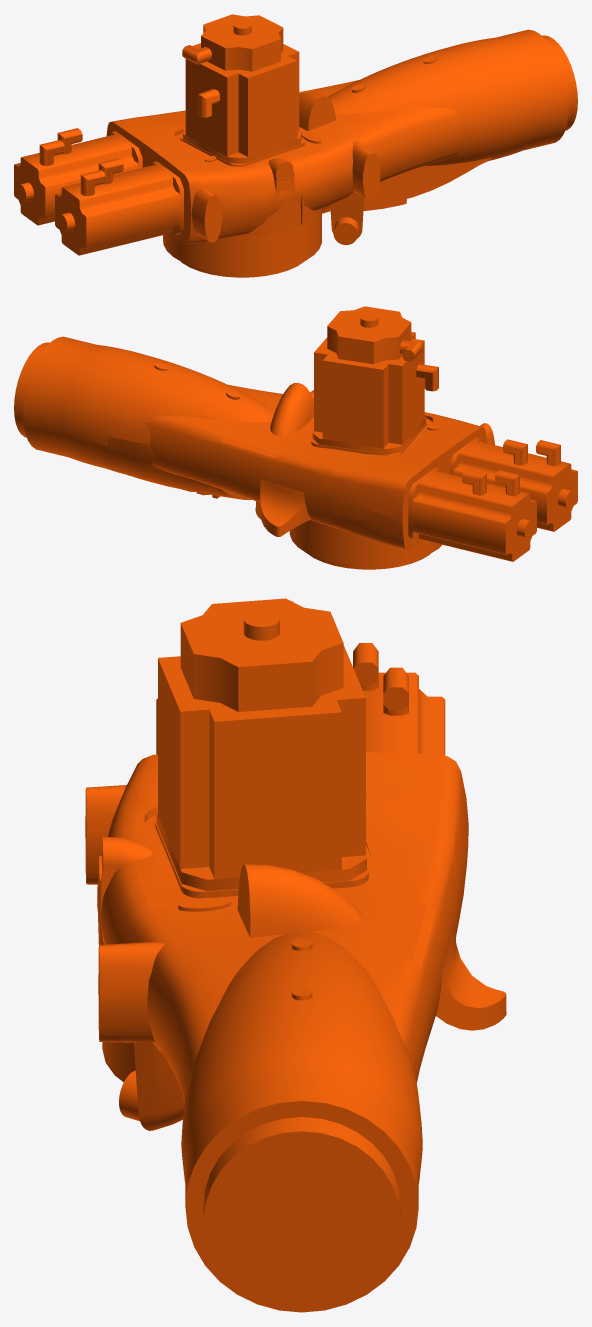
The picture shows the model from 3 angles, top to bottom: view 1: azimuth 30°, elevation 25°; view 2: azimuth 150°, elevation 25°; view 3: azimuth 270°, elevation 25°; orthographic projection. The views are drawn at different scales.
Visible parts, largest first — view 1: KR300_R2500_ultra_3; view 2: KR300_R2500_ultra_3; view 3: KR300_R2500_ultra_3.
Boxes of the visible parts, x1,y1,x2,y2 form: KR300_R2500_ultra_3: (14, 14, 577, 277); KR300_R2500_ultra_3: (14, 306, 577, 569); KR300_R2500_ultra_3: (85, 598, 506, 1312).
Bounding box in the file's own units: 1.2 × 0.502 × 0.4293.
